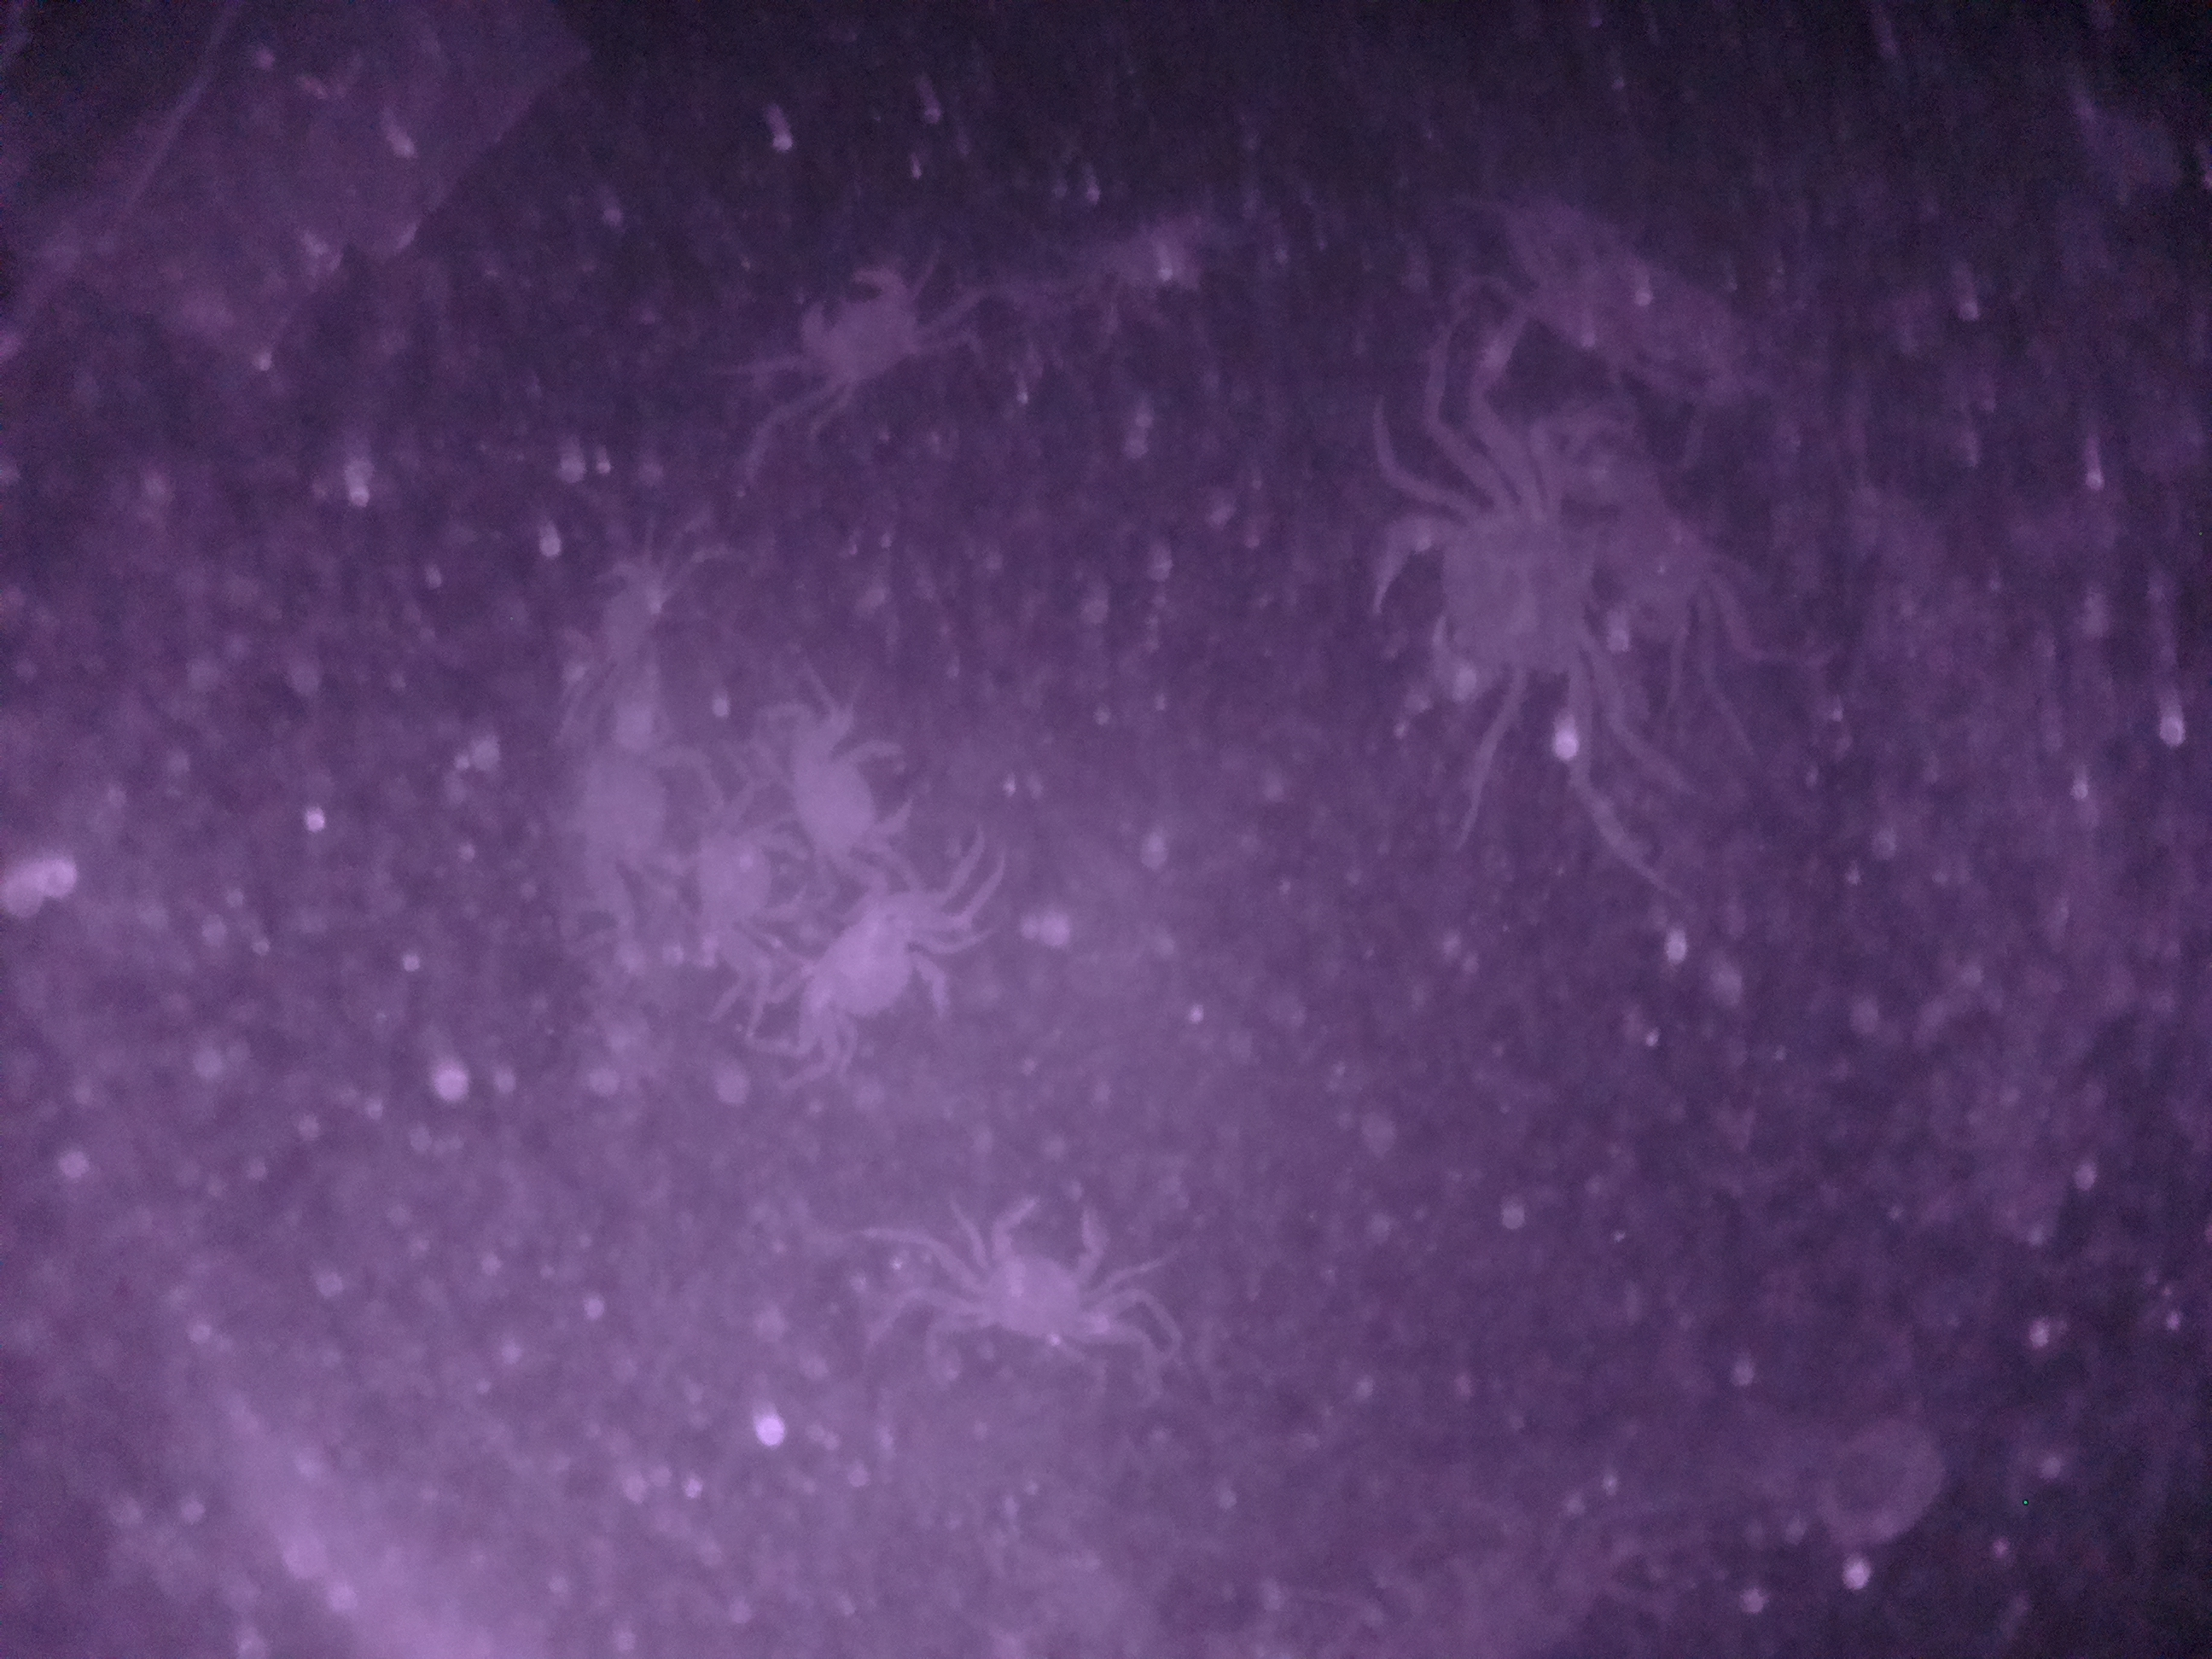Crab: (1369, 439, 1644, 763), (779, 889, 982, 1065), (939, 1169, 1132, 1351), (761, 697, 923, 884), (787, 247, 944, 432)
